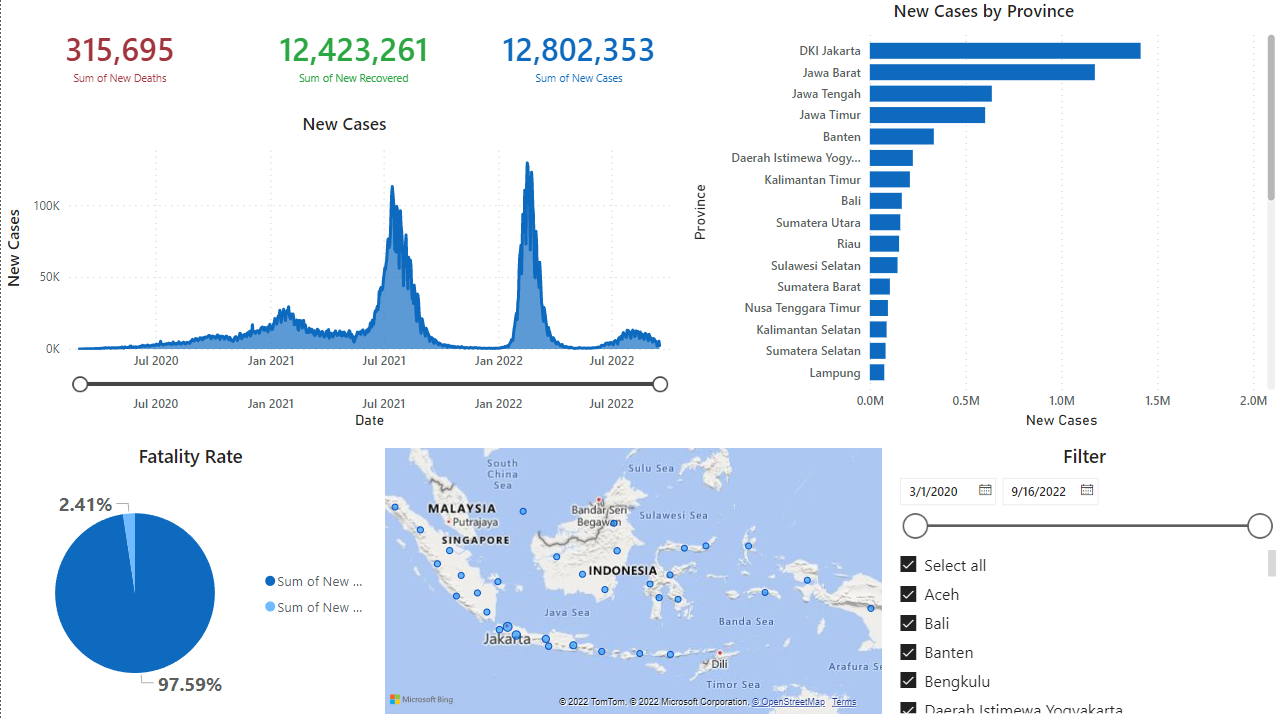

This screenshot's page, from the dashboard's own definition file:
{"tool":"powerbi","page":{"name":"Map Distribution","canvas":[1280,720],"ordinal":0},"visuals":[{"type":"areaChart","title":"New Cases","fields":{"Category":["covid_19_indonesia_time_series_all.Date"],"Y":["Sum(covid_19_indonesia_time_series_all.New Cases)"]},"box":[0,112.6,686.7,321.4],"z":0},{"type":"clusteredBarChart","title":"New Cases by Province","fields":{"Y":["Sum(covid_19_indonesia_time_series_all.New Cases)"],"Category":["covid_19_indonesia_time_series_all.Province"]},"box":[686.7,0,593.3,434],"z":1000},{"type":"card","fields":{"Values":["Sum(covid_19_indonesia_time_series_all.New Deaths)"]},"box":[0,0,237.6,112.6],"z":2000},{"type":"card","fields":{"Values":["Sum(covid_19_indonesia_time_series_all.New Recovered)"]},"box":[237.6,0,230.7,112.6],"z":3000},{"type":"card","fields":{"Values":["Sum(covid_19_indonesia_time_series_all.New Cases)"]},"box":[468.3,0,218.4,112.6],"z":4000},{"type":"pieChart","title":"Fatality Rate","fields":{"Y":["Sum(covid_19_indonesia_time_series_all.New Cases)","Sum(covid_19_indonesia_time_series_all.New Deaths)"]},"box":[0,443.6,379.1,276.1],"z":5000},{"type":"slicer","title":"Filter","fields":{"Values":["covid_19_indonesia_time_series_all.Date"]},"box":[885.8,443.6,394.2,103],"z":6000},{"type":"slicer","fields":{"Values":["covid_19_indonesia_time_series_all.Province"]},"box":[885.8,546.6,394.2,173],"z":6001},{"type":"map","fields":{"Category":["covid_19_indonesia_time_series_all.Province"],"Size":["Sum(covid_19_indonesia_time_series_all.New Recovered)"]},"box":[379.1,443.6,506.8,276.1],"z":6002}]}

Visuals, with their boxes in screenshot pixels (x1, y1, x2, y2), scaled from the page's 1280x720 canvas onto the 1281x718 screenshot:
"New Cases" areaChart: left=0, top=112, right=687, bottom=433
"New Cases by Province" clusteredBarChart: left=687, top=0, right=1280, bottom=433
card - Sum(covid_19_indonesia_time_series_all.New Deaths): left=0, top=0, right=238, bottom=112
card - Sum(covid_19_indonesia_time_series_all.New Recovered): left=238, top=0, right=469, bottom=112
card - Sum(covid_19_indonesia_time_series_all.New Cases): left=469, top=0, right=687, bottom=112
"Fatality Rate" pieChart: left=0, top=442, right=379, bottom=717
"Filter" slicer: left=886, top=442, right=1280, bottom=545
slicer - covid_19_indonesia_time_series_all.Province: left=886, top=545, right=1280, bottom=717
map - covid_19_indonesia_time_series_all.Province x Sum(covid_19_indonesia_time_series_all.New Recovered): left=379, top=442, right=887, bottom=717
